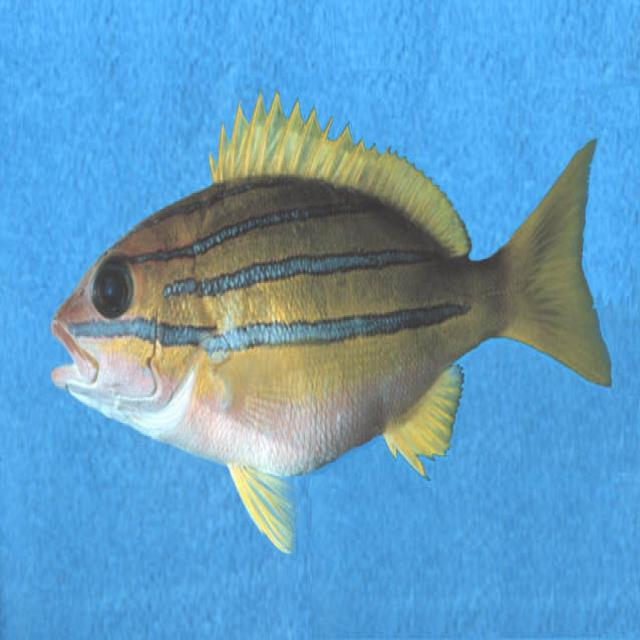ikan: (49, 89, 612, 553)
